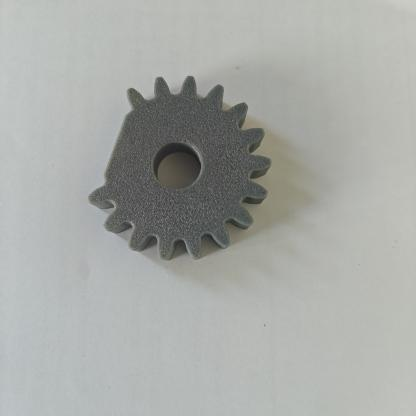defect: (76, 94, 163, 204)
gear: (59, 69, 284, 279)
